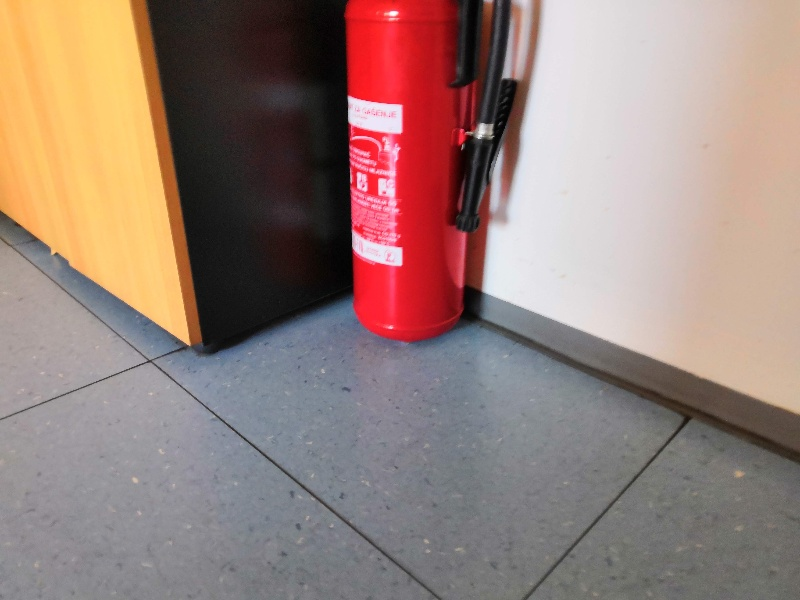vataparat: (344, 1, 518, 342)
